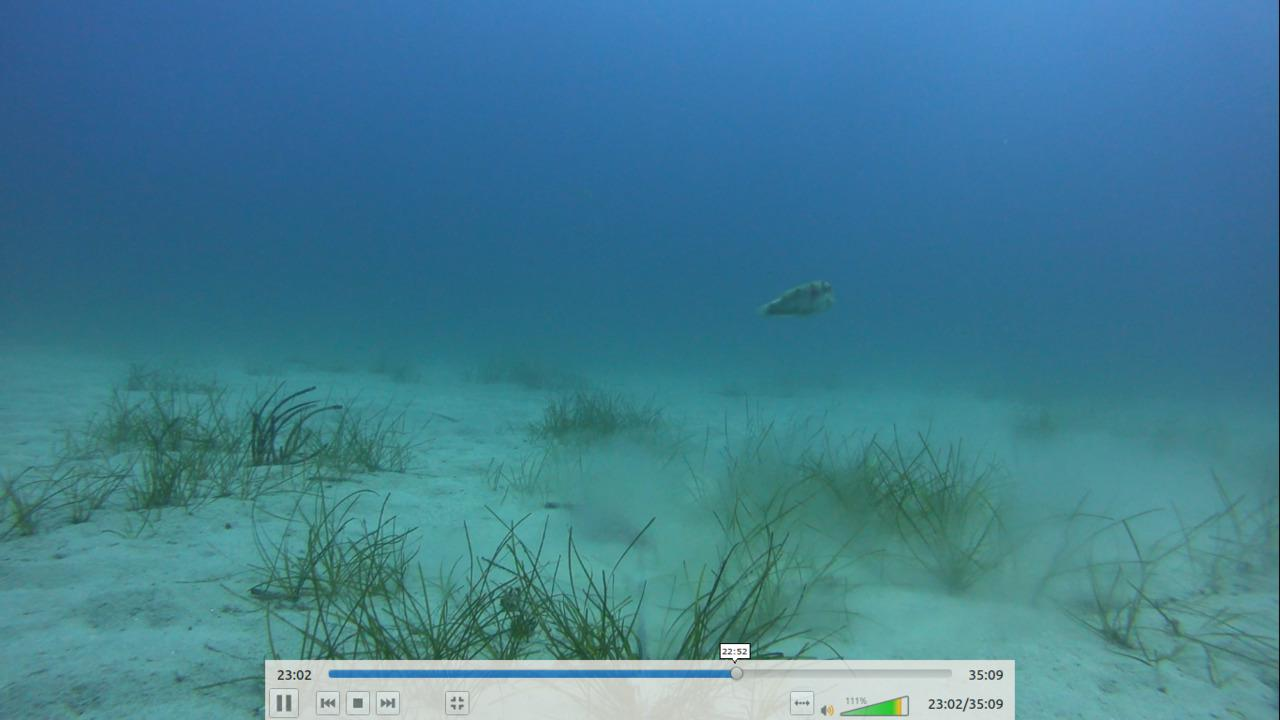raor: (745, 273, 841, 321)
